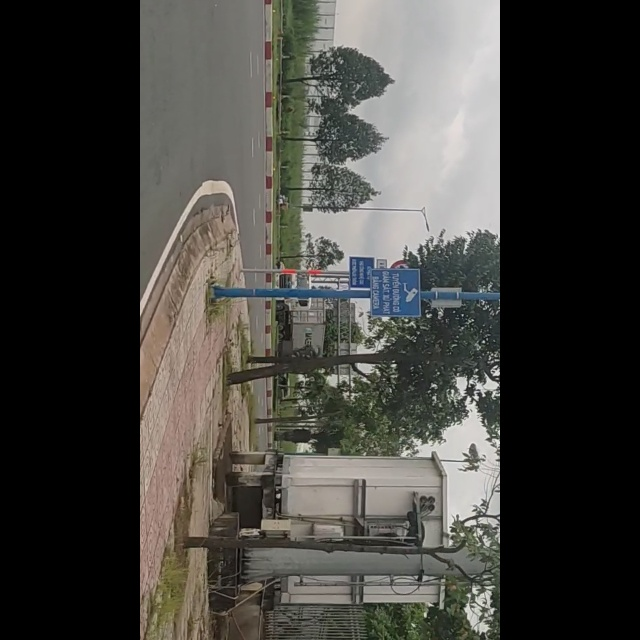bien_cam: (405, 268, 507, 320)
